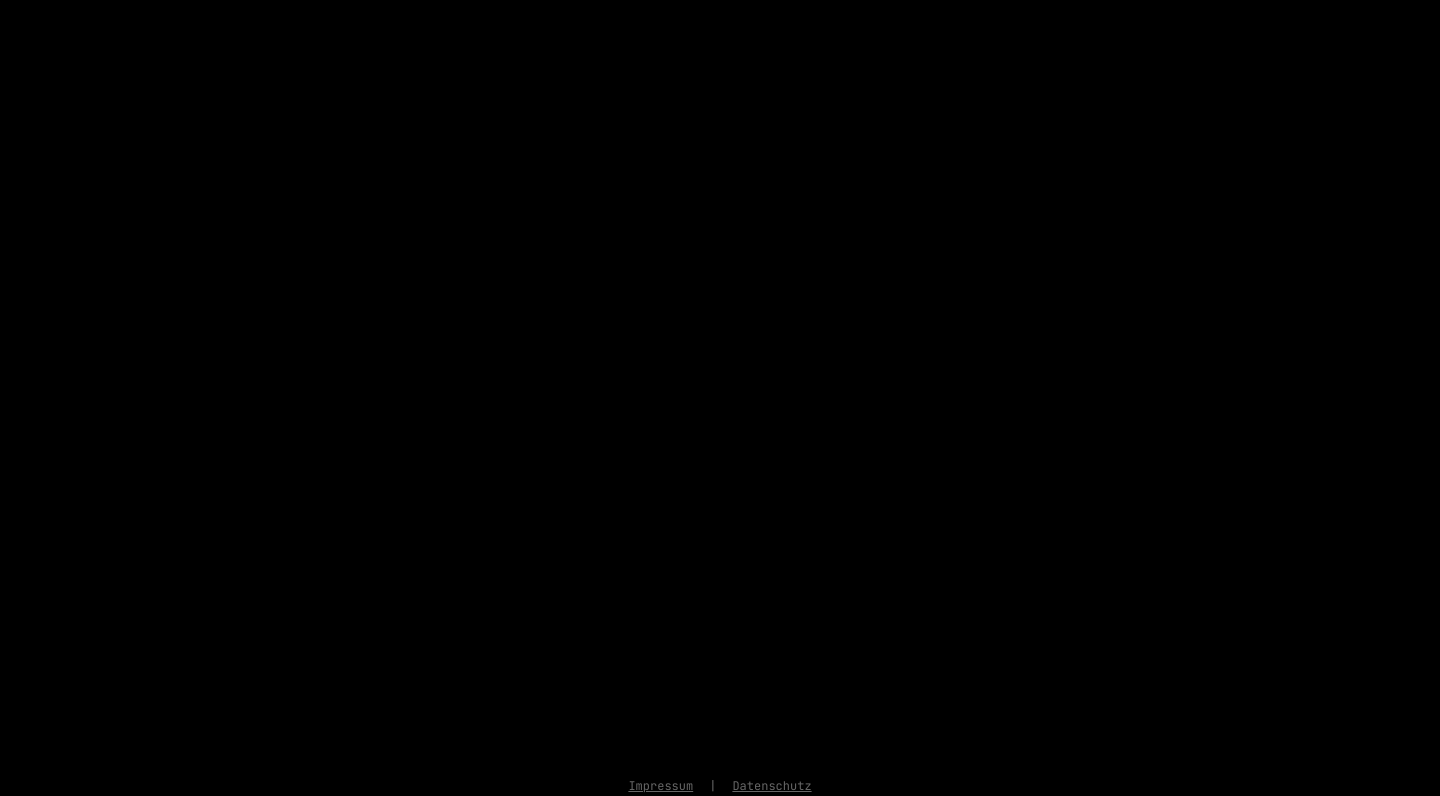
Test case: App — autosave resume flow › offers WEITER SPIELEN when a mid-run autosave exists, and restores it
Press Enter
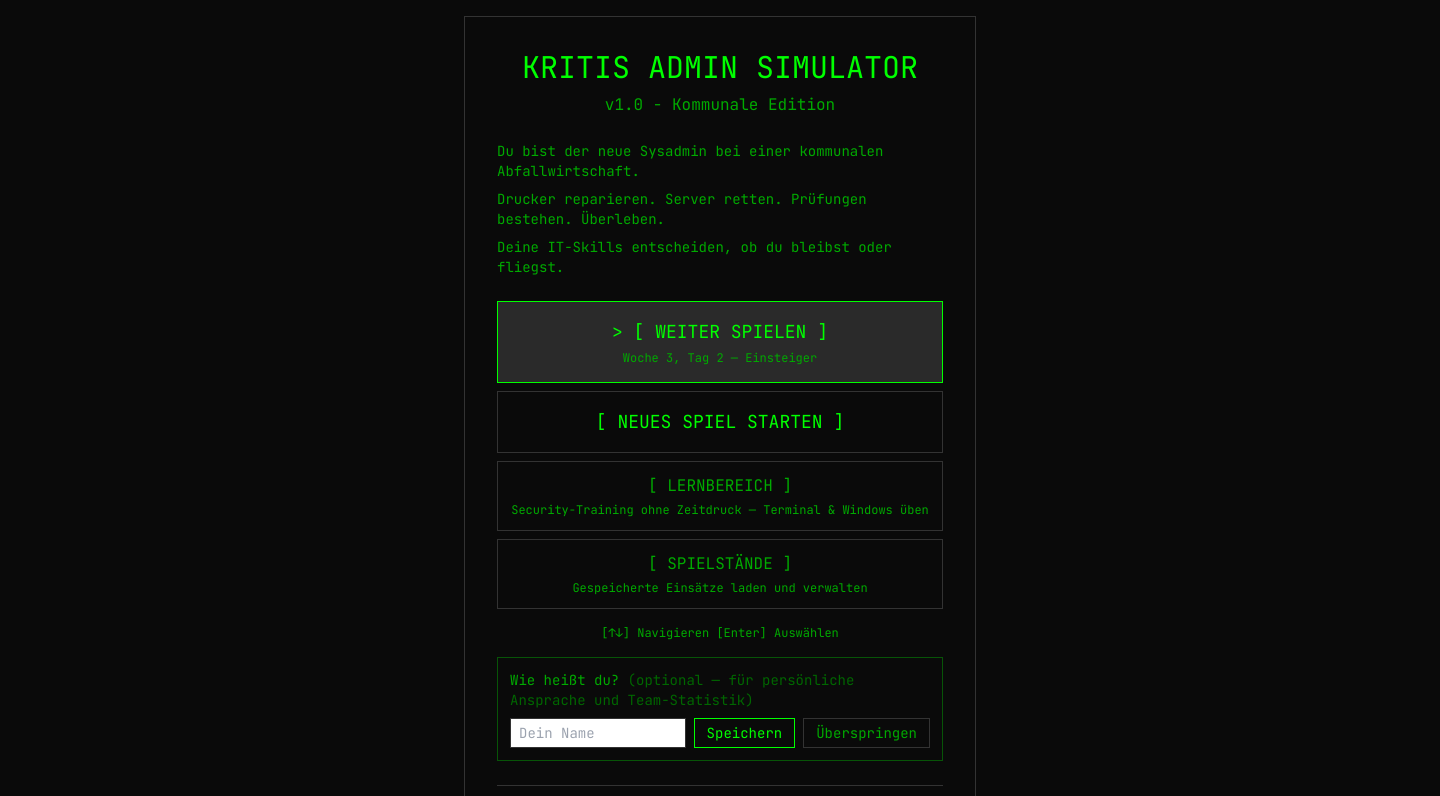
Click the button "> [ WEITER SPIELEN ] Woche 3, Tag 2 — Einsteiger". click: (720, 342)
box: top-left (497, 301), bottom-right (943, 383)
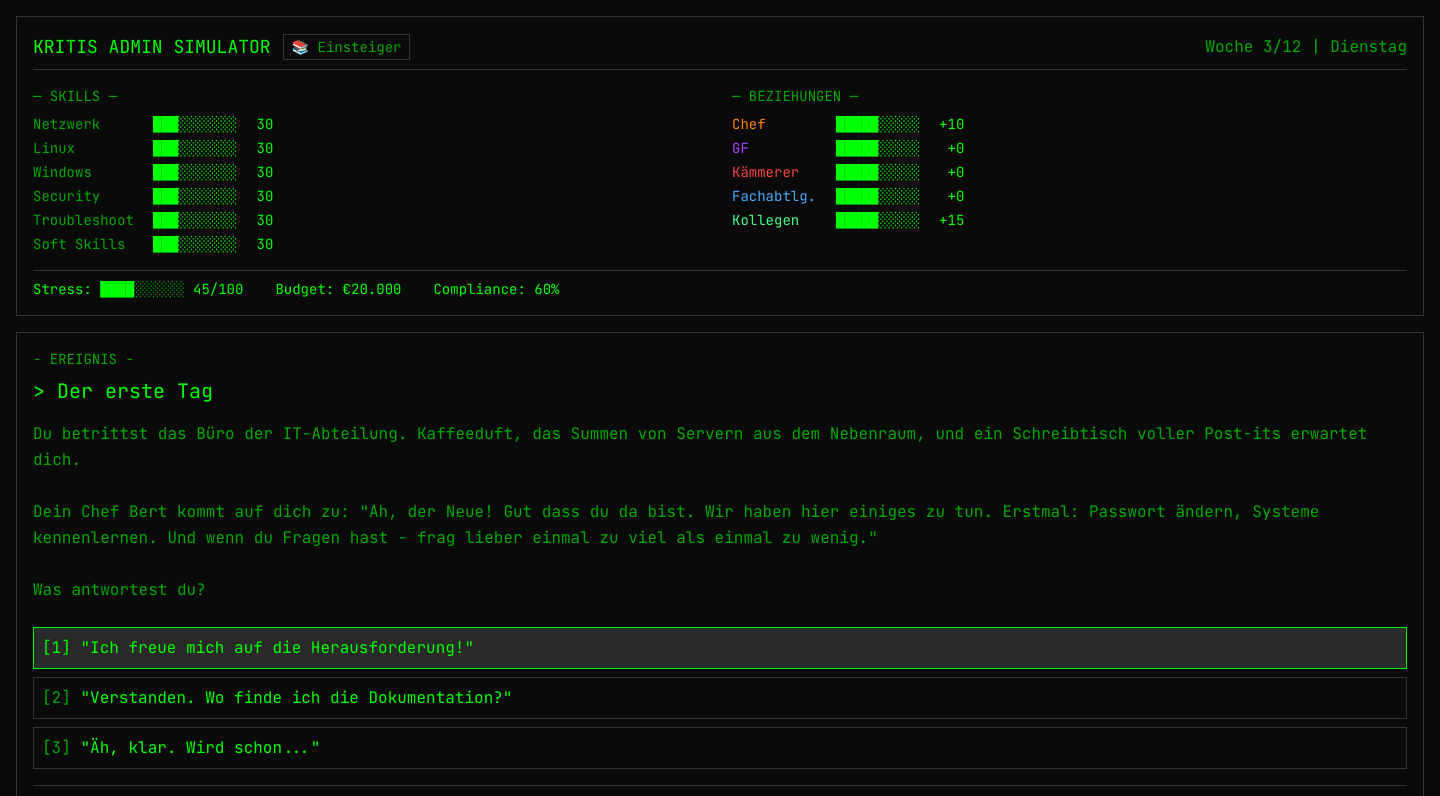
Result: the text "Woche 3/12 | Dienstag" is shown at top-left (1205, 35), bottom-right (1407, 59)
Result: the button "NEUES SPIEL STARTEN" is gone
